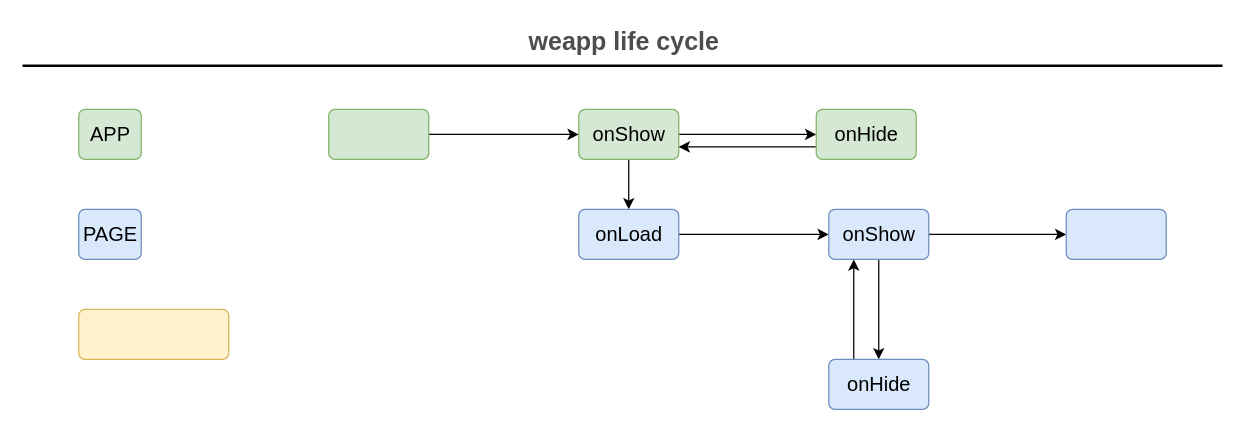
Image size: 1245x431. Some labels were removed from this diagram. Here are the shapes that lost their labels. From the top down, the centre of each, then its label:
At pixel 378 133: "onLaunch".
At pixel 1115 233: "onReady".
At pixel 153 333: "COMPONENT".
